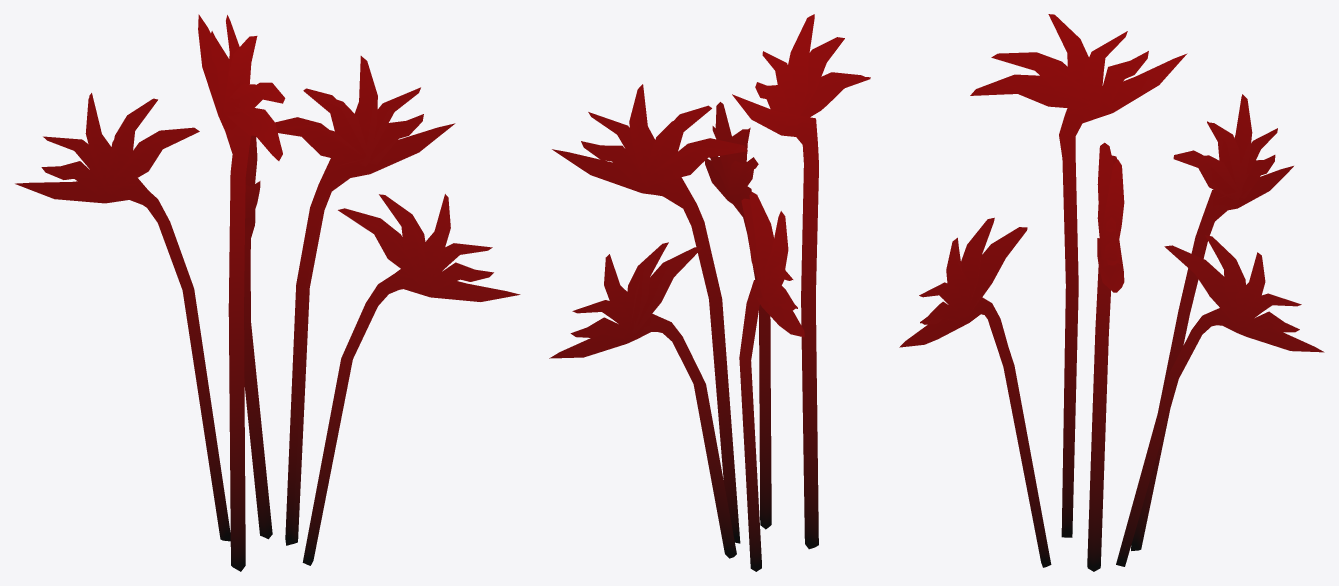
Rendered from SM_Env_Flowers_04.glb.
The picture shows the model from 3 angles, left to right: view 1: azimuth 30°, elevation 25°; view 2: azimuth 150°, elevation 25°; view 3: azimuth 270°, elevation 25°; orthographic projection. The views are drawn at different scales.
Parts seen in each view (by area): view 1: SM_Env_Flowers_04_LOD0; view 2: SM_Env_Flowers_04_LOD0; view 3: SM_Env_Flowers_04_LOD0.
Part boxes in pixels (left/top/right/bottom): SM_Env_Flowers_04_LOD0: left=15, top=14, right=520, bottom=571; SM_Env_Flowers_04_LOD0: left=549, top=14, right=870, bottom=571; SM_Env_Flowers_04_LOD0: left=899, top=14, right=1324, bottom=571.
Size of what is drawn, in the model's own units: 1.23 by 1.82 by 1.32.
